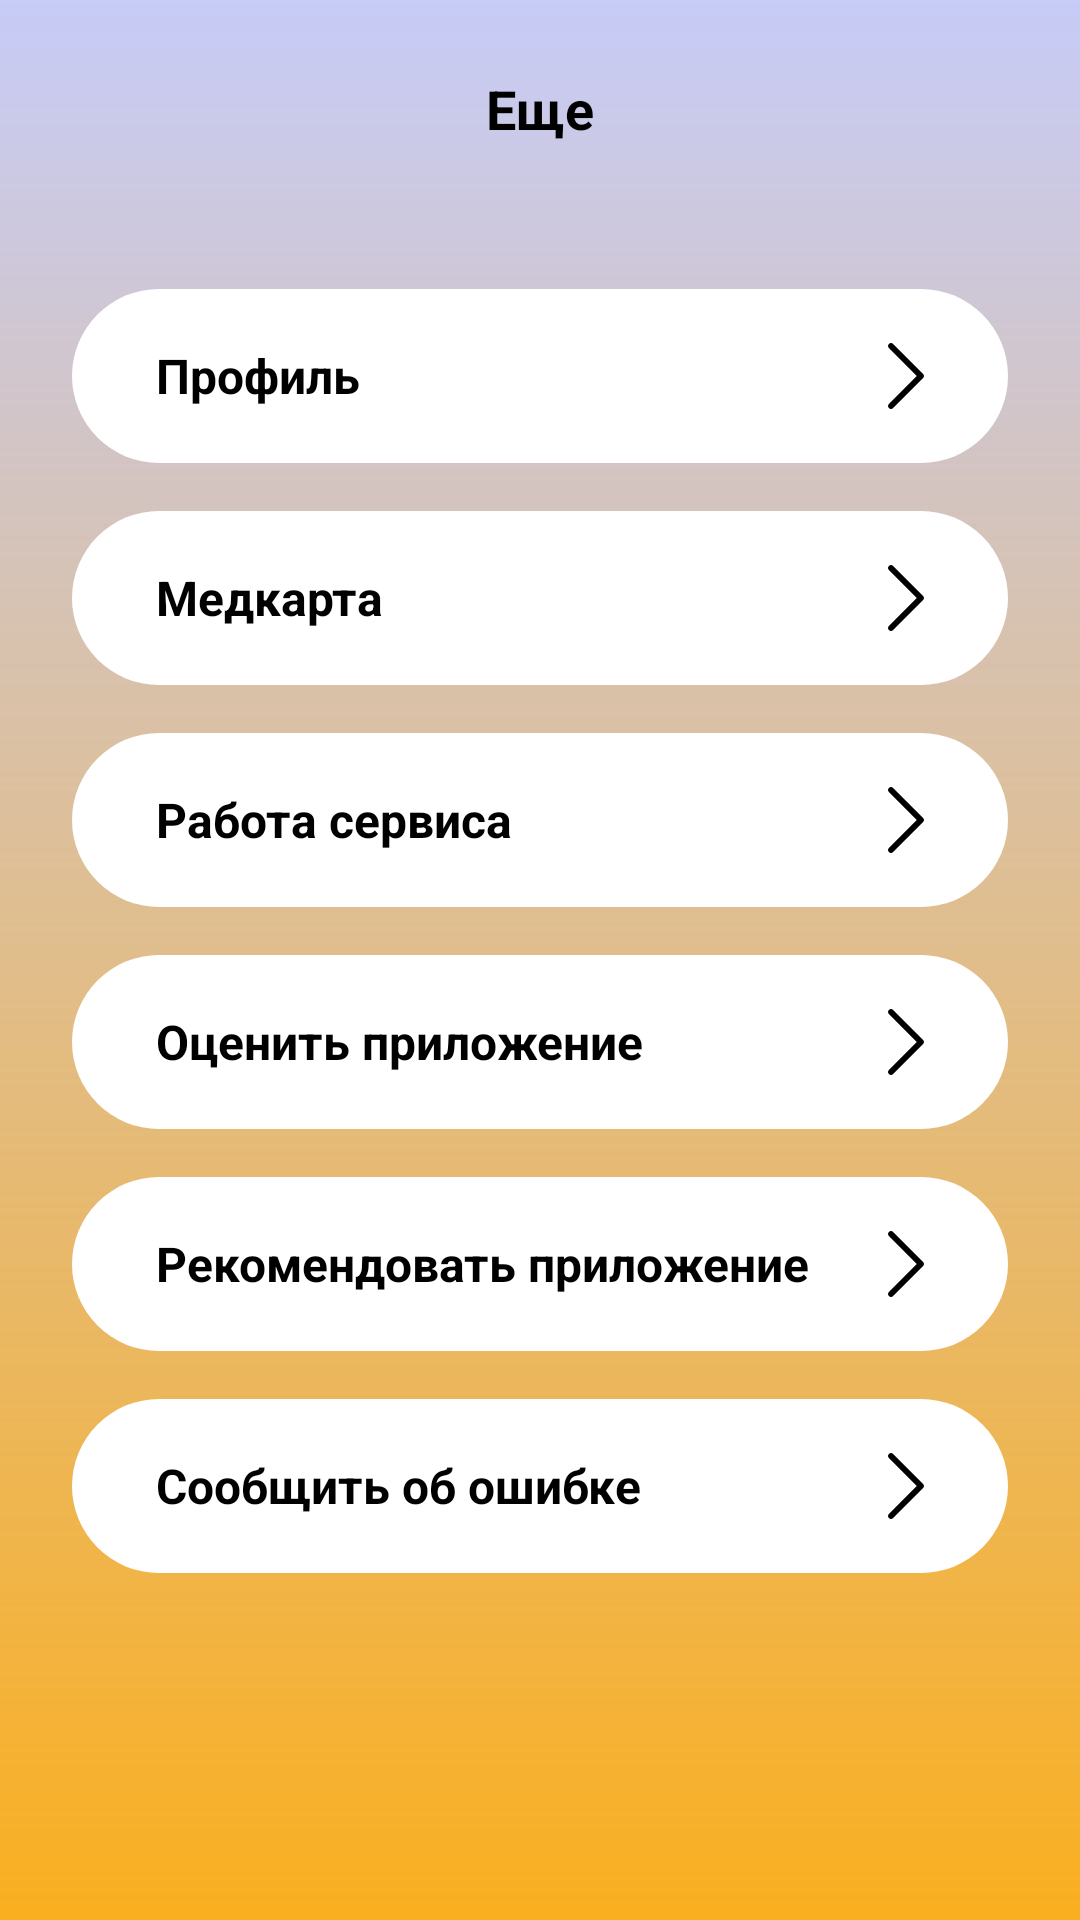

Where to tap for icons on this 1080 × 1920 app screen, as (x=x, y=y):
arraow right: (x=906, y=376), (x=906, y=598), (x=906, y=820), (x=906, y=1042), (x=906, y=1264), (x=906, y=1486)
